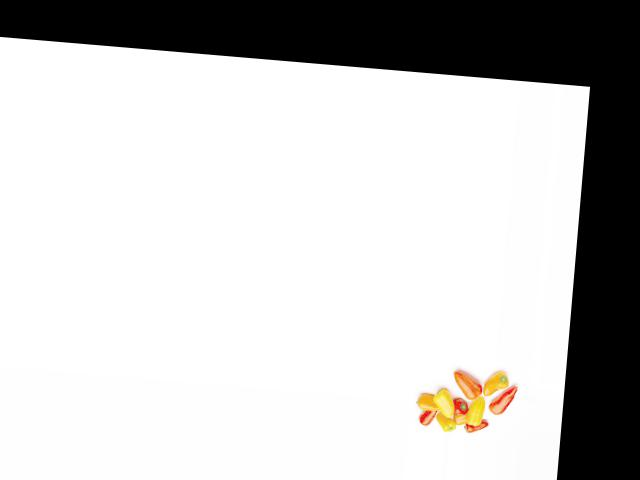bell_pepper: (462, 420, 491, 435)
